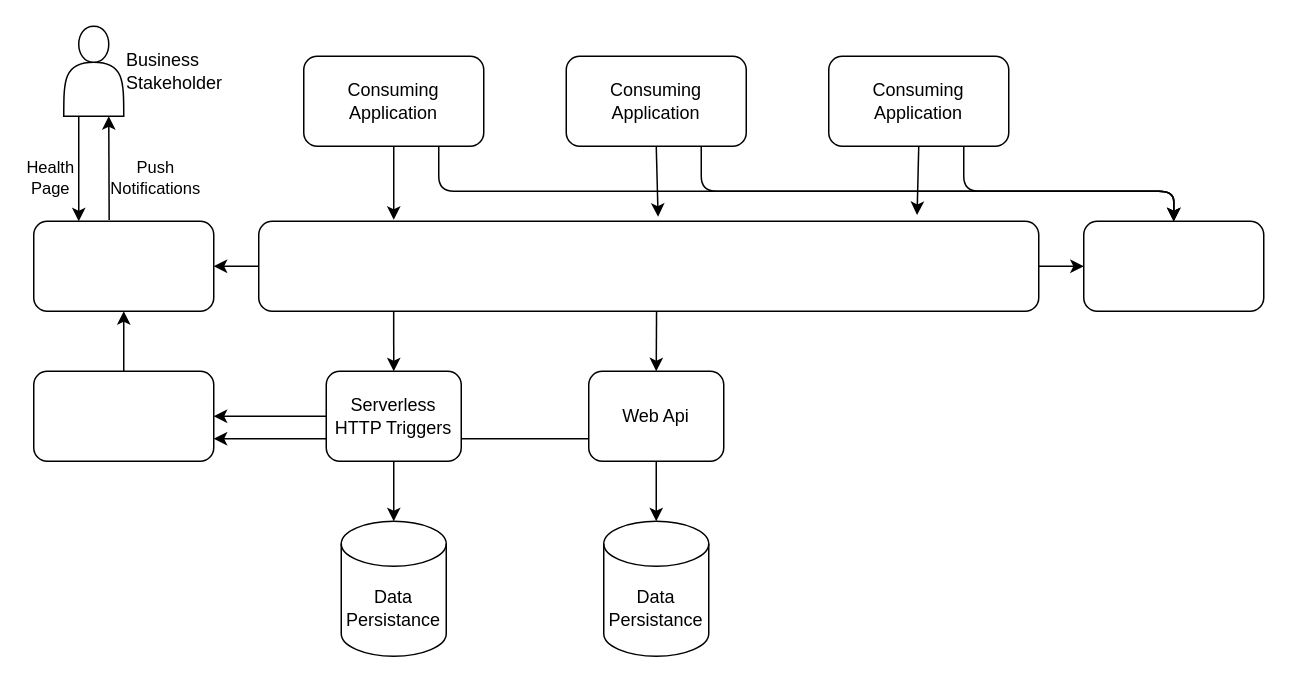
The diagram is 1290 pixels wide and 683 high, and some of its shapes have lost their labels. Here are the shapes that lost their labels. From the top down, the centre of each, then its label:
At point 123,265: "Monitoring / Alerting".
At point 648,265: "API Gateway / Reverse Proxy".
At point 1173,265: "IdentityServer".
At point 123,415: "Logs".
